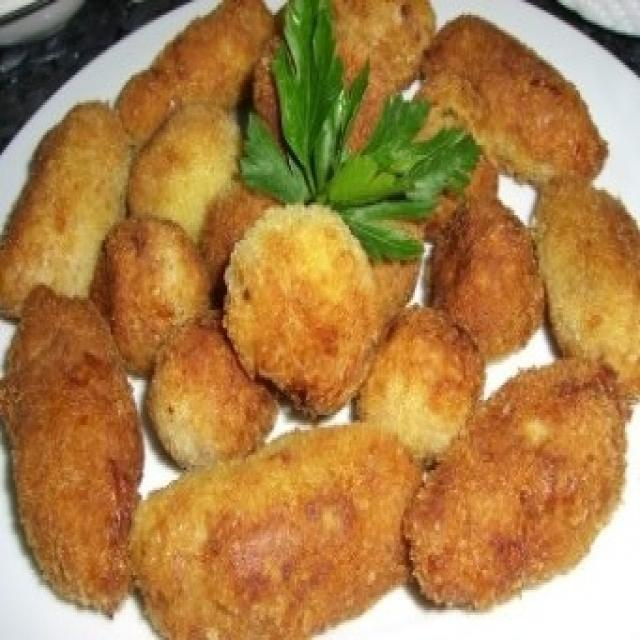鸡肉料理 含炸鸡: (11, 8, 625, 620)
